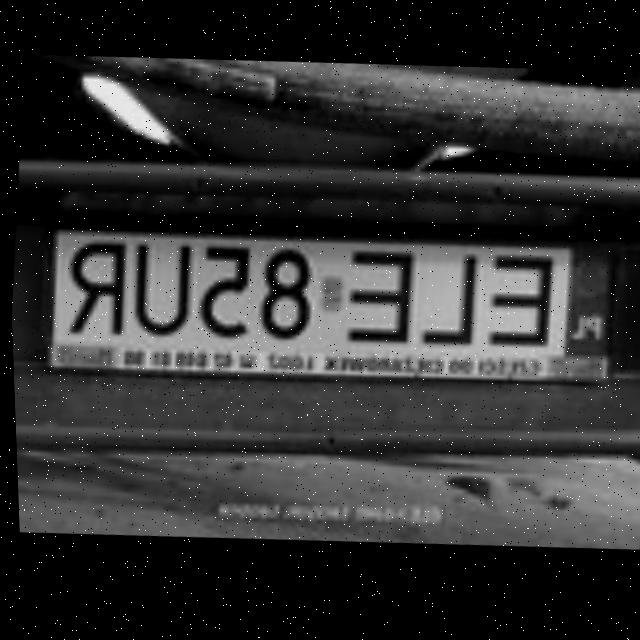license-plates: (52, 231, 613, 358)
